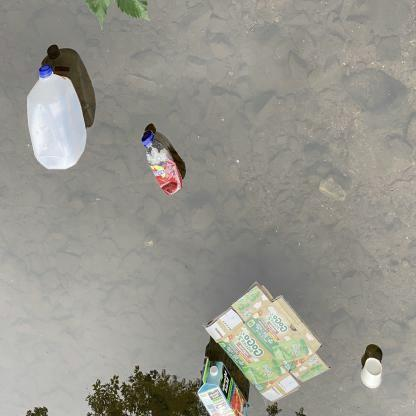Plastic: (23, 62, 91, 176), (137, 123, 187, 199)
Trash: (359, 353, 386, 393)
